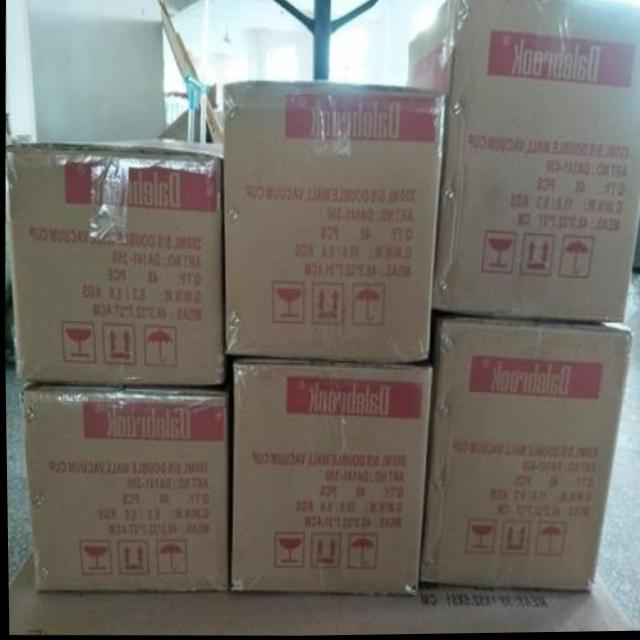box: (406, 0, 640, 324), (221, 78, 445, 364), (417, 313, 630, 595), (4, 137, 221, 385), (230, 359, 431, 598), (17, 382, 229, 595)
